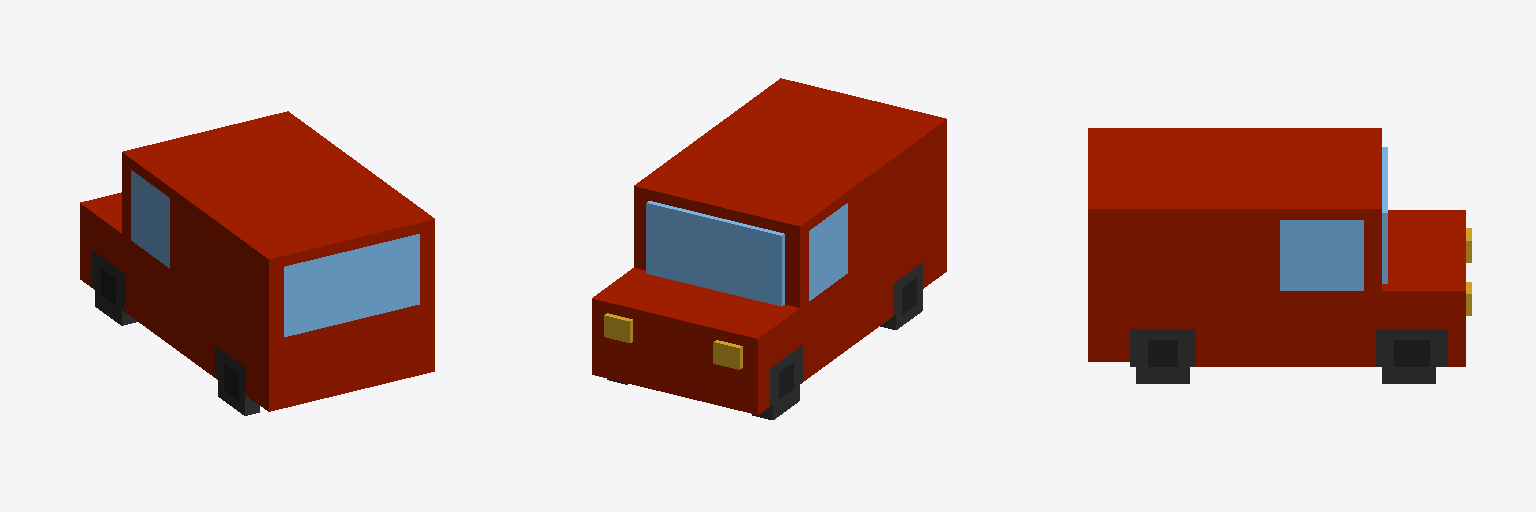
3 views of the same model, side by side, from view 1: azimuth 30°, elevation 25°; view 2: azimuth 150°, elevation 25°; view 3: azimuth 270°, elevation 25° (orthographic).
Bounding box in the file's own units: 32 × 32 × 64.
1 materials, 1 textured.